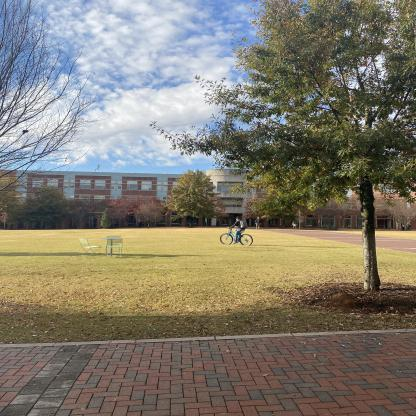EB-1: (0, 169, 415, 228)
